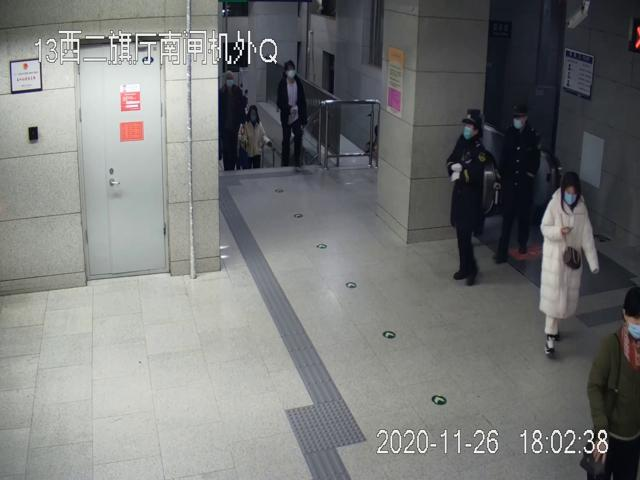person: (538, 170, 599, 363), (446, 109, 501, 289), (275, 58, 307, 167), (219, 66, 244, 170), (239, 102, 273, 171)
